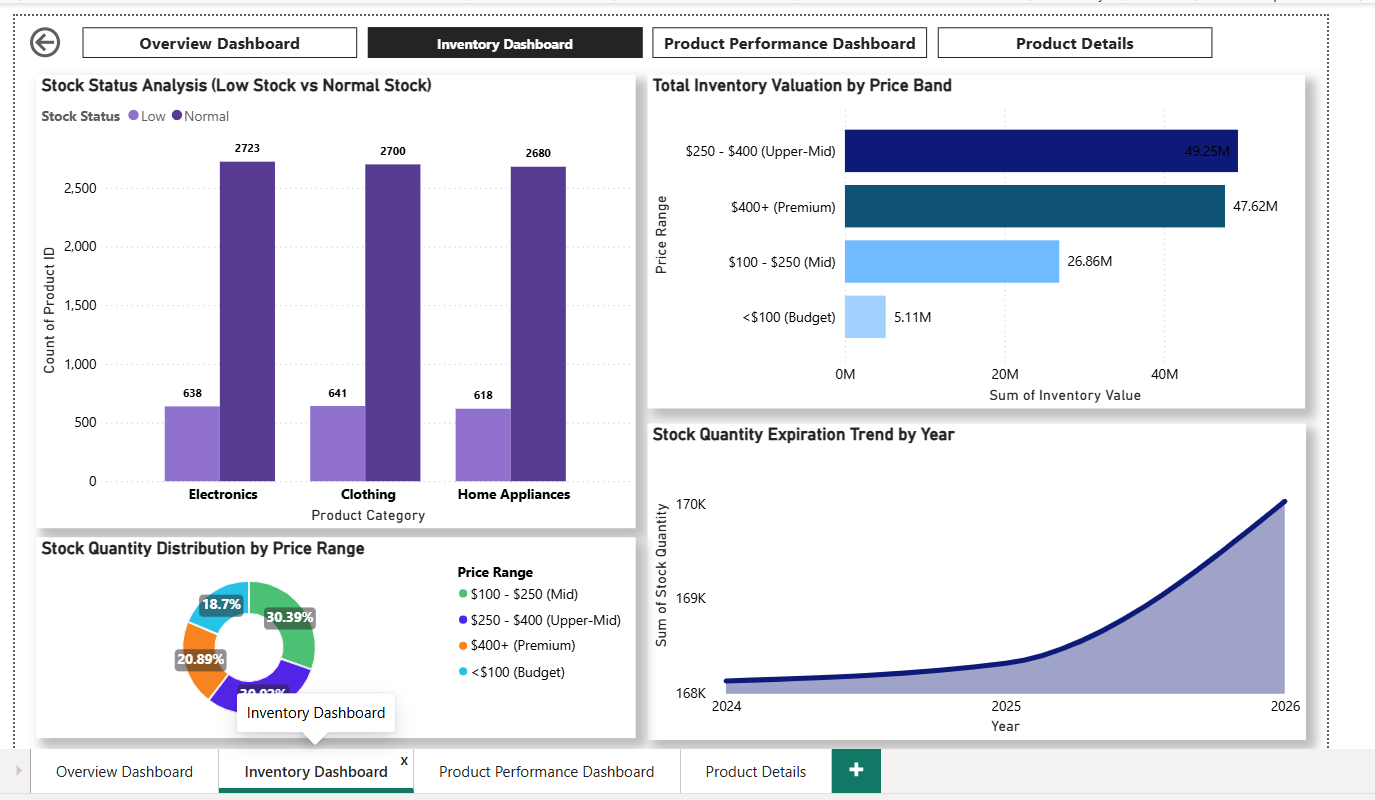

The dashboard page shown, as its layout file describes it:
{"tool":"powerbi","page":{"name":"Inventory Dashboard","canvas":[1280,720],"ordinal":1},"visuals":[{"type":"pageNavigator","box":[66.2,11.2,1103.8,30],"z":0},{"type":"actionButton","box":[10.1,5.8,43.5,39.1],"z":1000},{"type":"clusteredColumnChart","title":"Stock Status Analysis (Low Stock vs Normal Stock)","fields":{"Series":["products.Stock Status"],"Category":["products.Product Category"],"Y":["CountNonNull(products.Product ID)"]},"box":[20.5,57.7,584.6,442.3],"z":2000},{"type":"barChart","title":"Total Inventory Valuation by Price Band","fields":{"Category":["products.Price Range"],"Y":["Sum(products.Inventory Value)"]},"box":[617.5,57.5,642,325.3],"z":3000},{"type":"lineChart","title":"Stock Quantity Expiration Trend by Year","fields":{"Category":["products.Expiration Date.Variation.Date Hierarchy.Year"],"Y":["Sum(products.Stock Quantity)"]},"box":[617.4,397.1,642,308.7],"z":4000},{"type":"donutChart","title":"Stock Quantity Distribution by Price Range","fields":{"Category":["products.Price Range"],"Y":["Sum(products.Stock Quantity)"]},"box":[20.5,509,584.6,196.2],"z":5000}]}

Visuals, with their boxes on the page's 1280x720 design canvas (x1, y1, x2, y2). These are canvas units, not pixel positions in the 1375x800 screenshot, which may show the page scaled, cropped or inside an application window:
pageNavigator: [left=66, top=11, right=1170, bottom=41]
actionButton: [left=10, top=6, right=54, bottom=45]
"Stock Status Analysis (Low Stock vs Normal Stock)" clusteredColumnChart: [left=20, top=58, right=605, bottom=500]
"Total Inventory Valuation by Price Band" barChart: [left=618, top=58, right=1260, bottom=383]
"Stock Quantity Expiration Trend by Year" lineChart: [left=617, top=397, right=1259, bottom=706]
"Stock Quantity Distribution by Price Range" donutChart: [left=20, top=509, right=605, bottom=705]
